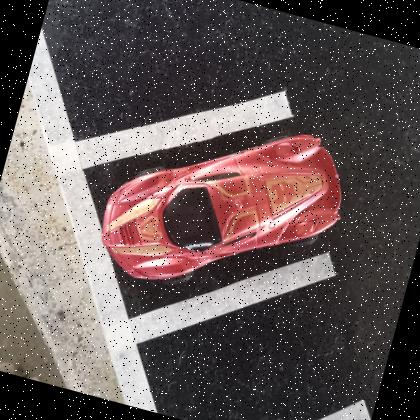Car: (100, 133, 343, 279)
